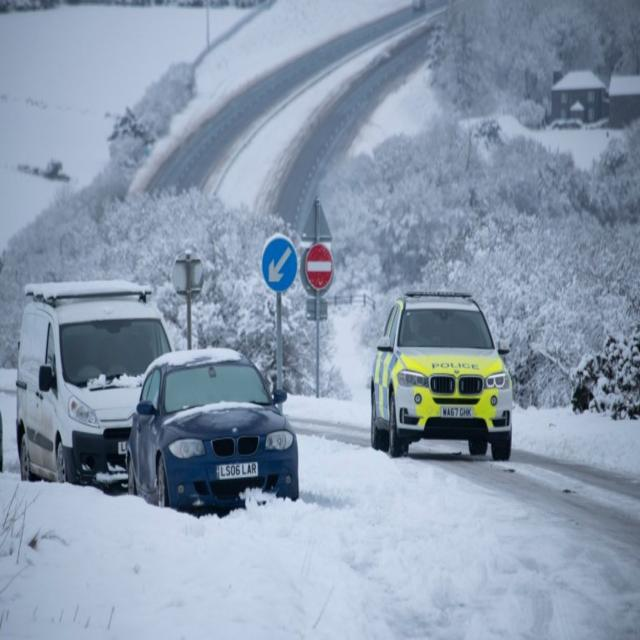bus: (14, 275, 177, 487)
car: (121, 345, 303, 520), (370, 294, 517, 463)
